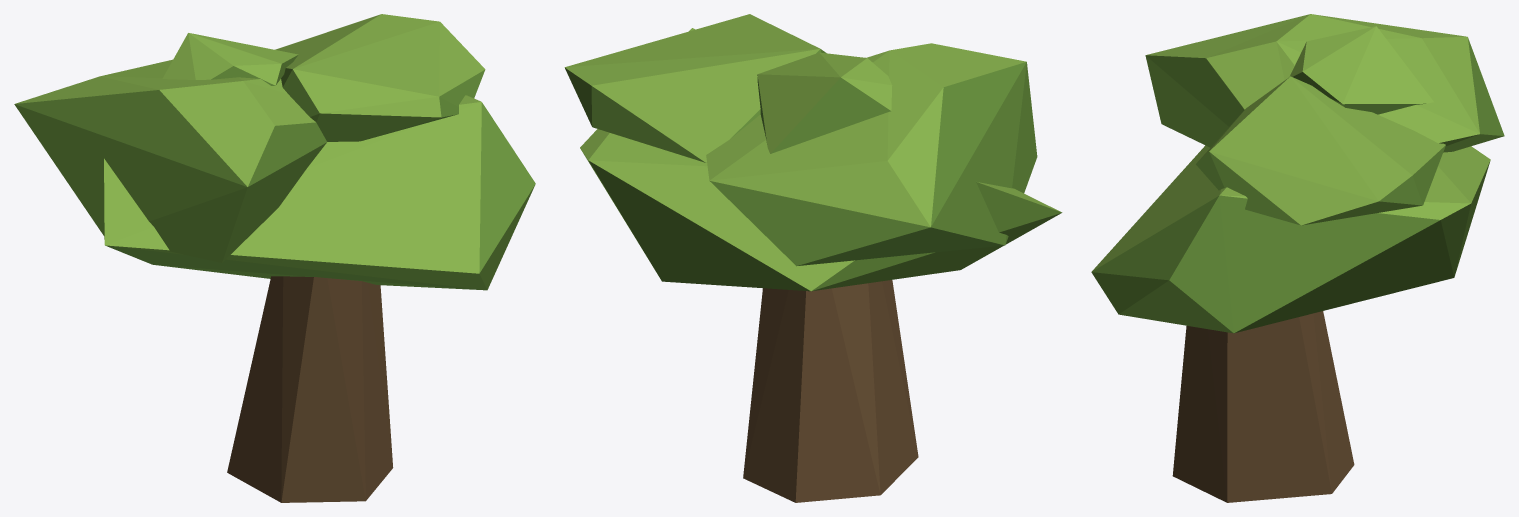
Rendered from Tree_C.fbx.
3 renders of one model, left to right at view 1: azimuth 30°, elevation 25°; view 2: azimuth 150°, elevation 25°; view 3: azimuth 270°, elevation 25°, orthographic. The views are drawn at different scales.
Visible parts, largest first — view 1: Tree_C; view 2: Tree_C; view 3: Tree_C.
Boxes of the visible parts, box(x1,y1,x2,y2) form: Tree_C: box(14, 14, 535, 502); Tree_C: box(564, 14, 1062, 502); Tree_C: box(1091, 14, 1504, 502).
Size of the model in its own units: 4.4 by 4.3 by 3.9.
